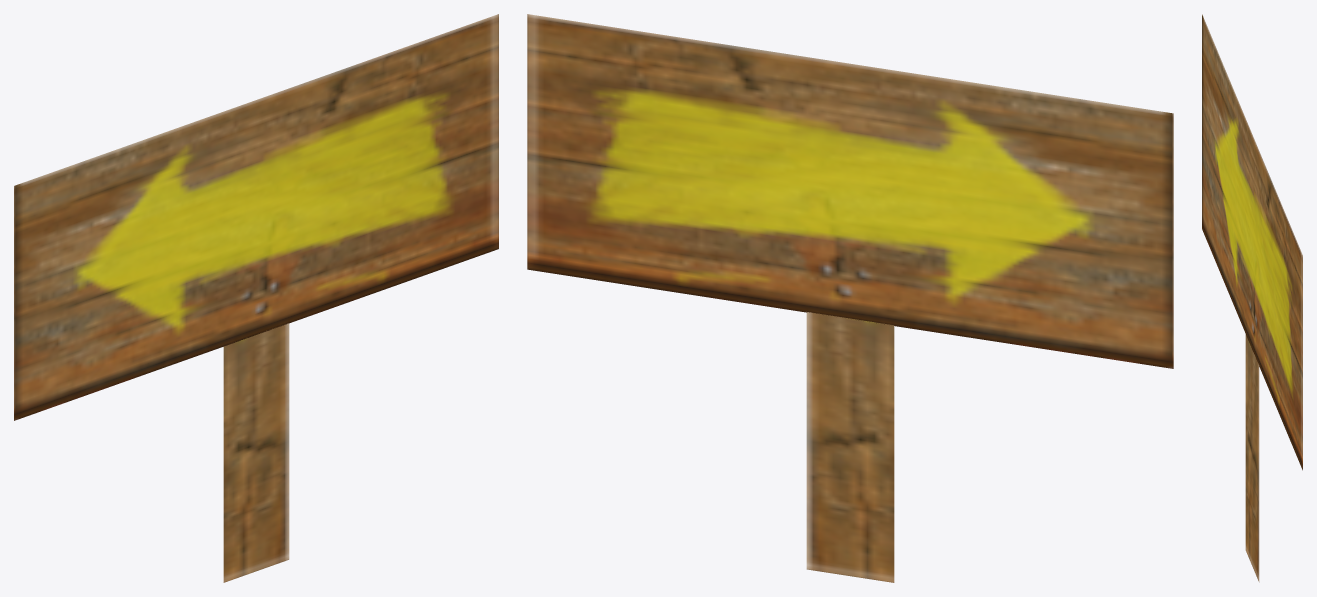
Rendered from rightway04.glb.
3 views of the same model, side by side, from view 1: azimuth 30°, elevation 25°; view 2: azimuth 150°, elevation 25°; view 3: azimuth 270°, elevation 25° (orthographic). The views are drawn at different scales.
Parts seen in each view (by area): view 1: rightway04; view 2: rightway04; view 3: rightway04.
Part boxes in pixels (left/top/right/bottom): rightway04: left=14, top=14, right=498, bottom=582; rightway04: left=527, top=14, right=1173, bottom=582; rightway04: left=1202, top=14, right=1302, bottom=582.
Bounding box in the file's own units: 561 × 469 × 99.
Materials: 1 (1 with a texture image).
